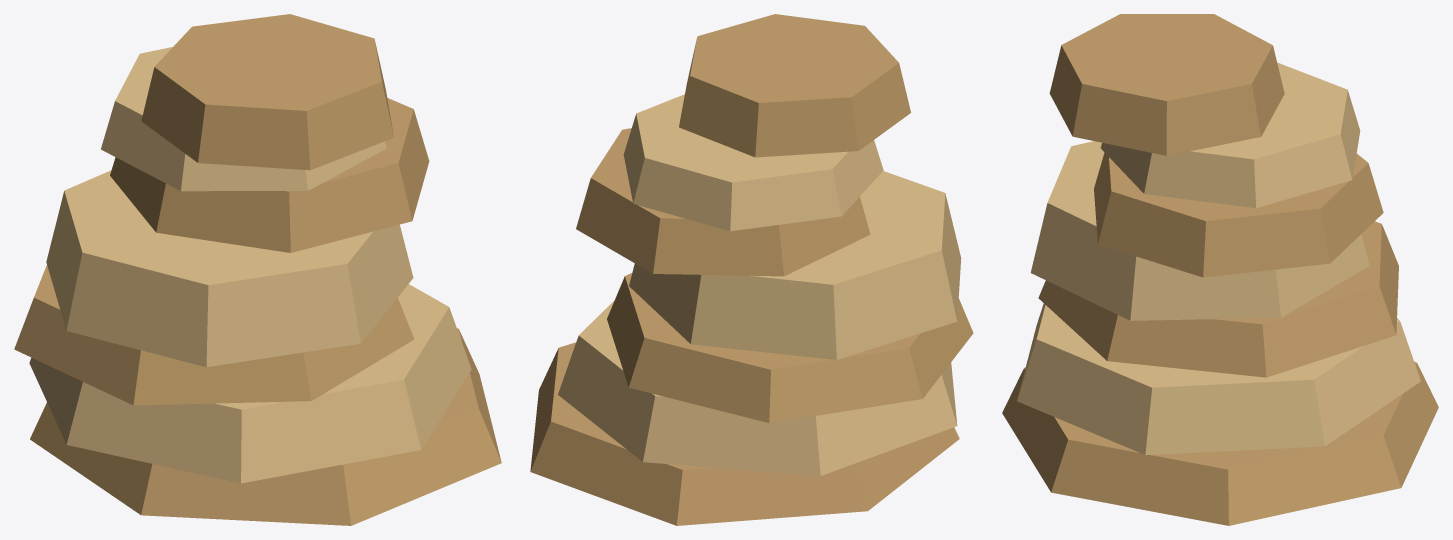
Rendered from map3_dune_rock_a_v01.glb.
3 renders of one model, left to right at view 1: azimuth 30°, elevation 25°; view 2: azimuth 150°, elevation 25°; view 3: azimuth 270°, elevation 25°, orthographic. The views are drawn at different scales.
Visible parts, largest first — view 1: dune_rock; view 2: dune_rock; view 3: dune_rock.
Part boxes in pixels (box(x1,y1,x2,y2)): dune_rock: box(14, 14, 501, 525); dune_rock: box(530, 14, 973, 525); dune_rock: box(1002, 14, 1438, 525).
Bounding box in the file's own units: 1.26 × 1.07 × 1.17.
